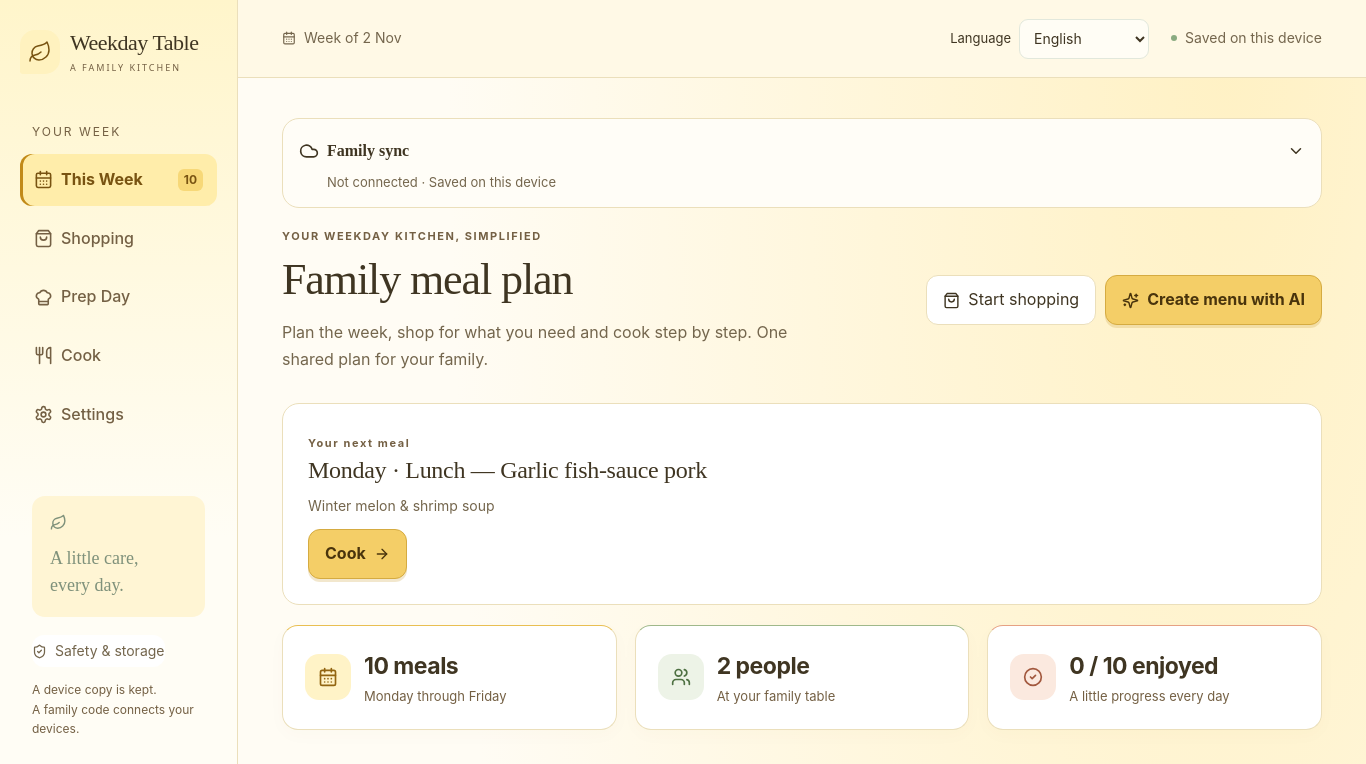
Test: family sync UI › receives later changes from another device while idle
Expected: the navigation bar is shown, [20, 154, 217, 440]
Click the button "Family sync" at (368, 150), box [299, 129, 1305, 173]
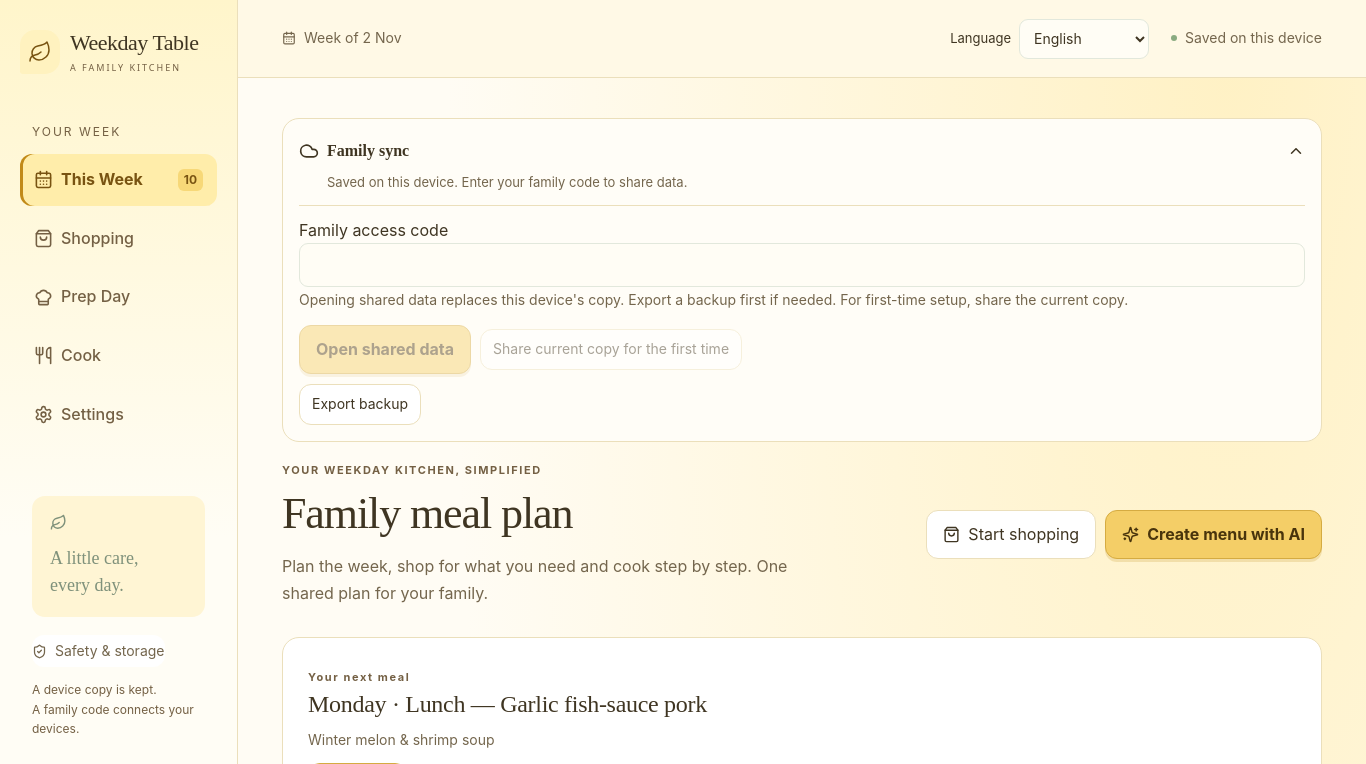
Type "test-only-family-access-code" into the password field labelled "Family access code" at (802, 265), box [299, 243, 1305, 288]
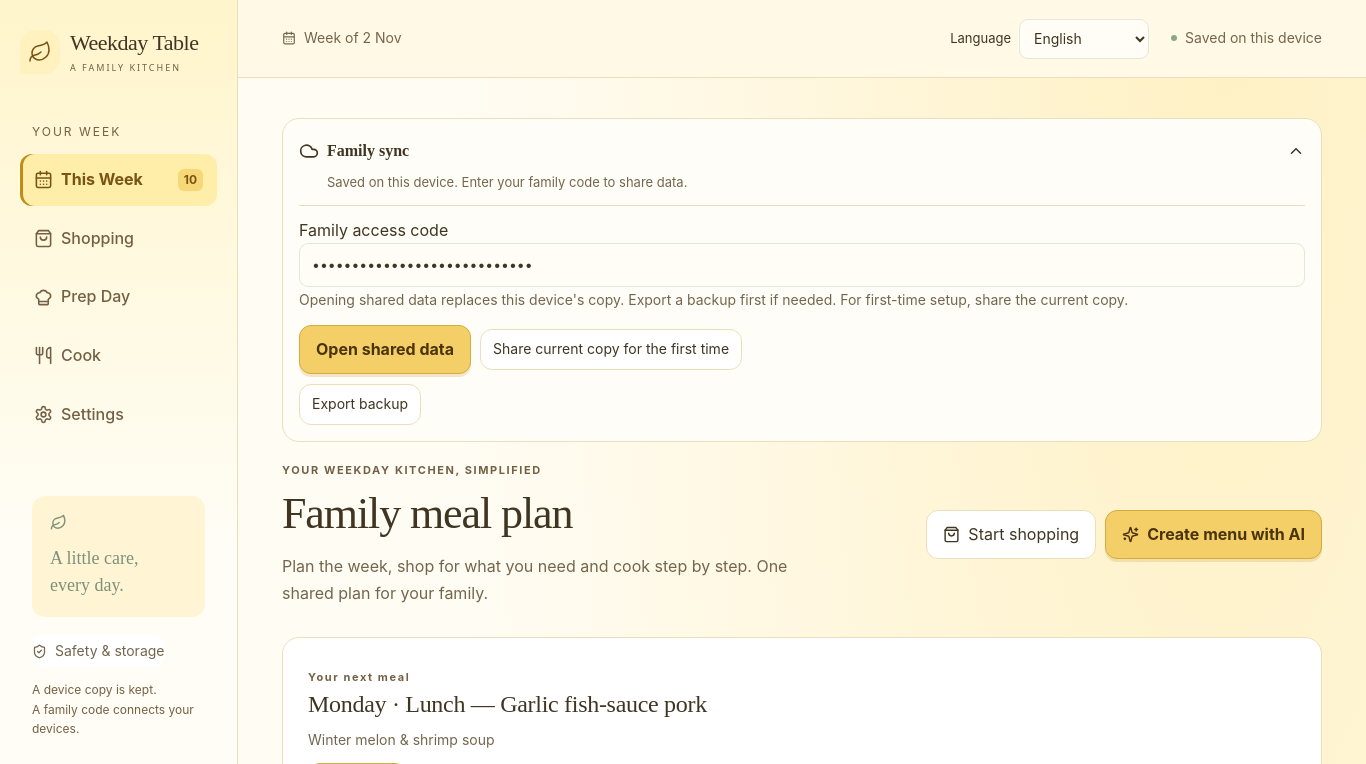
Click the button "Open shared data" at (385, 350), box [299, 325, 471, 374]
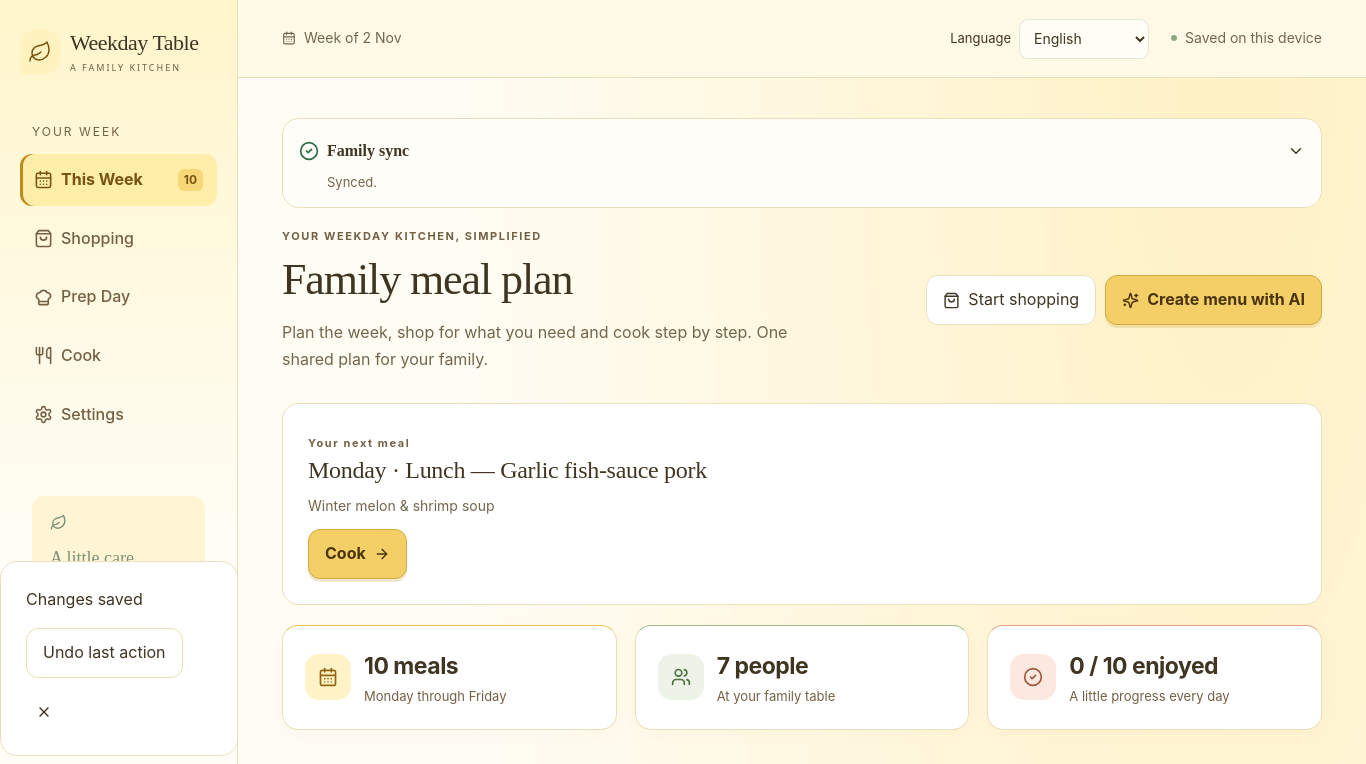
Result: the text "Synced." is shown at [327, 174, 377, 190]
